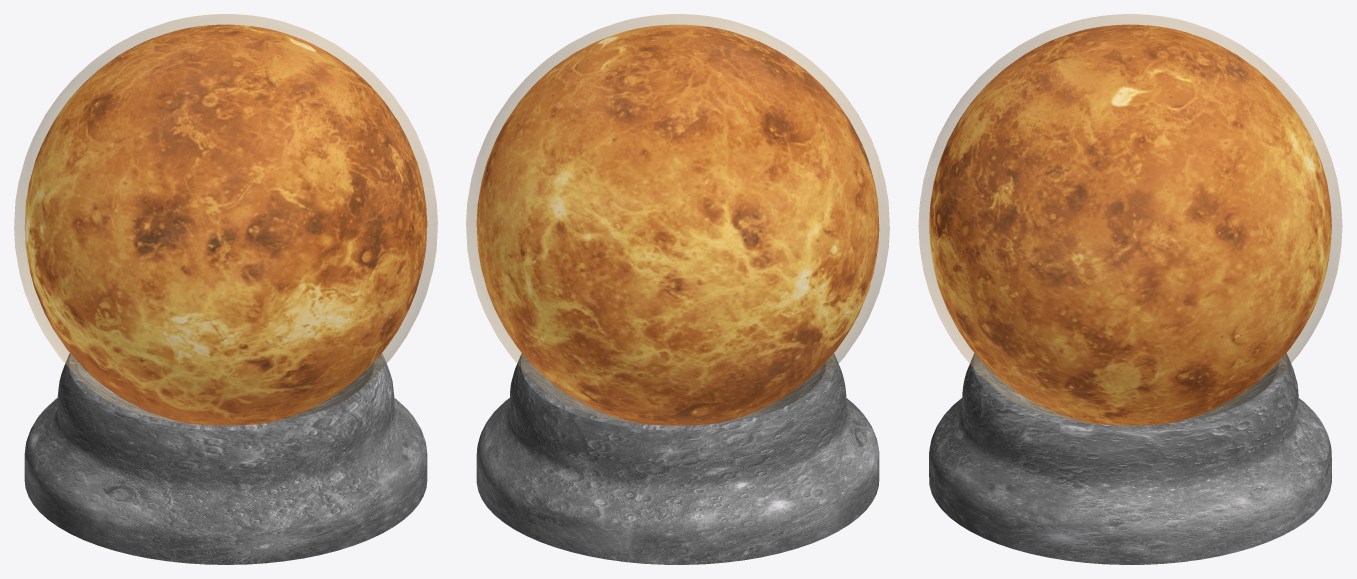
Rendered from bedsidelamp.glb.
3 views of the same model, side by side, from view 1: azimuth 30°, elevation 25°; view 2: azimuth 150°, elevation 25°; view 3: azimuth 270°, elevation 25° (orthographic).
Parts seen in each view (by area): view 1: Glass_lamp_1, Light_lamp_2, Base_lamp_0; view 2: Glass_lamp_1, Light_lamp_2, Base_lamp_0; view 3: Glass_lamp_1, Light_lamp_2, Base_lamp_0.
Part boxes in pixels (bbox=[...]): Glass_lamp_1: bbox=[14, 14, 437, 425]; Light_lamp_2: bbox=[24, 24, 427, 425]; Base_lamp_0: bbox=[24, 353, 427, 564]; Glass_lamp_1: bbox=[466, 14, 889, 425]; Light_lamp_2: bbox=[476, 24, 879, 425]; Base_lamp_0: bbox=[476, 353, 879, 564]; Glass_lamp_1: bbox=[918, 14, 1342, 424]; Light_lamp_2: bbox=[929, 24, 1331, 425]; Base_lamp_0: bbox=[929, 353, 1331, 564].
Bounding box in the file's own units: 0.2 × 0.2322 × 0.2.
Materials: 3 (3 with a texture image).
